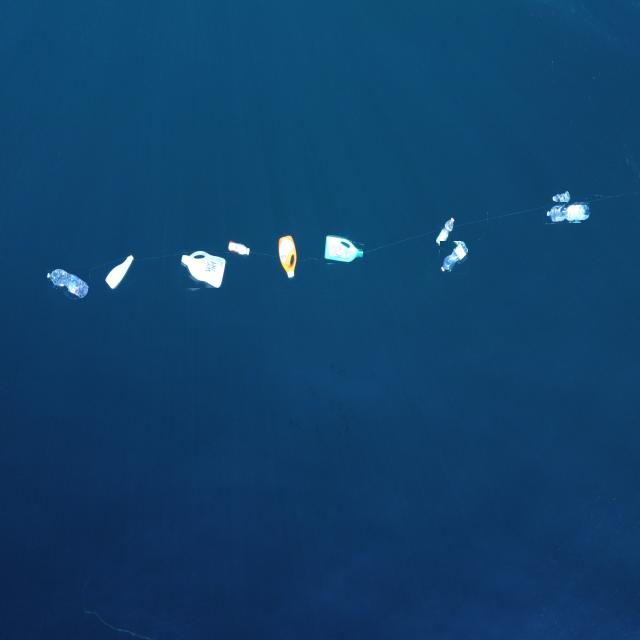bottles: (181, 250, 226, 288), (47, 268, 89, 300), (324, 235, 363, 263), (105, 253, 134, 290), (546, 202, 590, 223), (440, 242, 468, 274), (278, 234, 297, 278), (436, 217, 455, 246), (228, 239, 250, 256), (552, 190, 571, 205)
